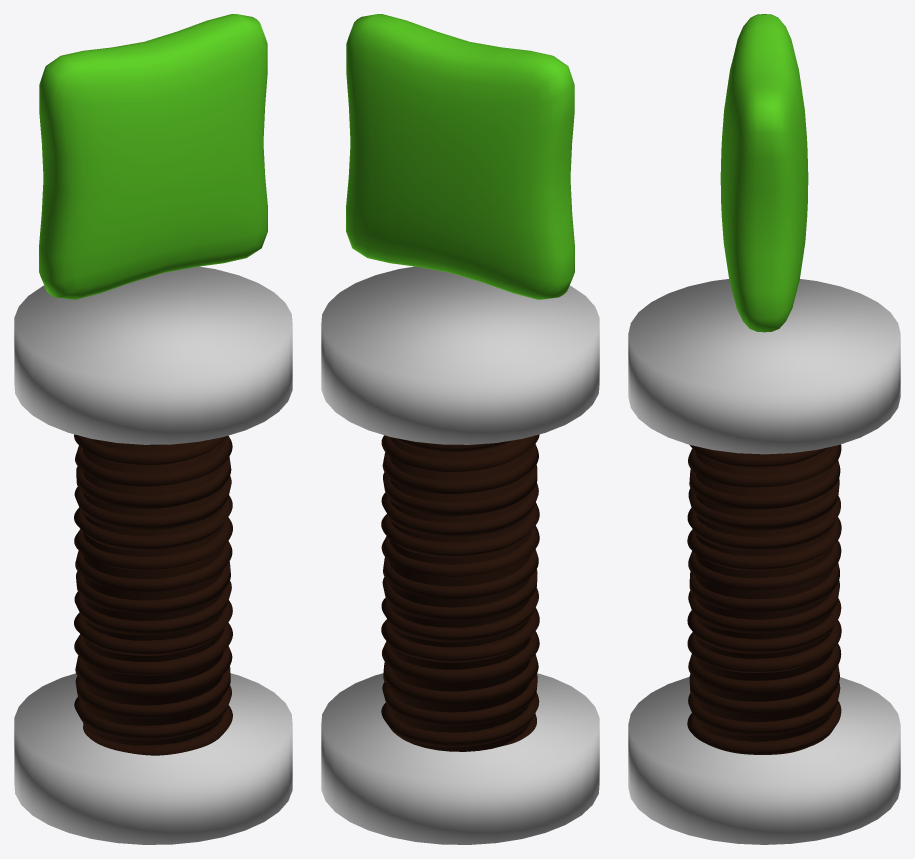
The model's file is TowerPillow.FBX.
3 views of the same model, side by side, from view 1: azimuth 30°, elevation 25°; view 2: azimuth 150°, elevation 25°; view 3: azimuth 270°, elevation 25° (orthographic). The views are drawn at different scales.
Parts seen in each view (by area): view 1: Cube, Circle.001, SpiroFit, Circle, Cylinder; view 2: Cube, Circle.001, SpiroFit, Circle, Cylinder; view 3: Circle.001, SpiroFit, Circle, Cube, Cylinder.
Part boxes in pixels (x1,y1,x2,y2): Cube: (39, 14, 267, 299); Circle.001: (14, 266, 292, 444); SpiroFit: (74, 434, 232, 755); Circle: (14, 673, 292, 844); Cylinder: (83, 438, 223, 745); Cube: (346, 14, 574, 299); Circle.001: (321, 266, 599, 444); SpiroFit: (381, 434, 539, 751); Circle: (321, 673, 599, 844); Cylinder: (390, 437, 530, 751); Circle.001: (628, 279, 900, 454); SpiroFit: (687, 444, 841, 754); Circle: (628, 677, 900, 844); Cube: (720, 14, 808, 332); Cylinder: (695, 446, 832, 745).
Size of the model in its own units: 250 by 739 by 250.
